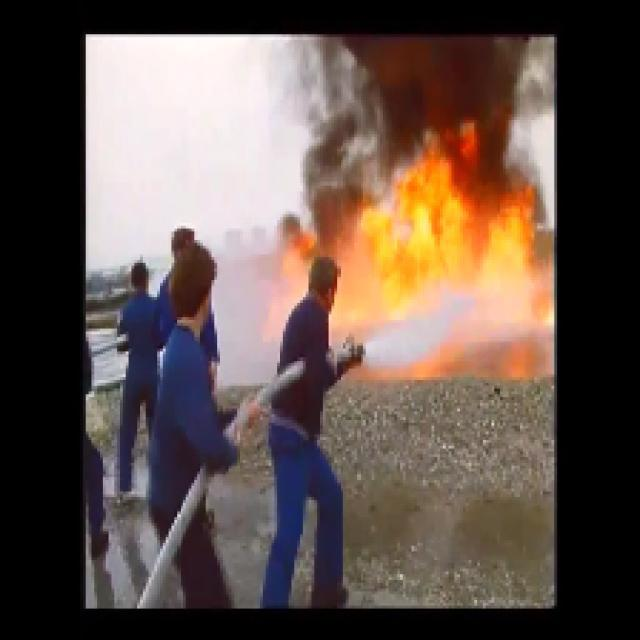Fire: (308, 156, 536, 288)
Smoke: (334, 34, 524, 126)
